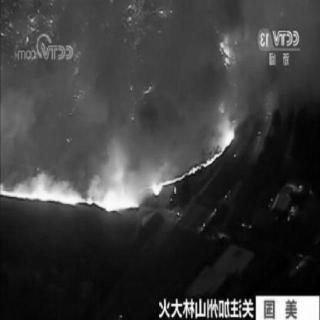Fire: (203, 31, 246, 156)
